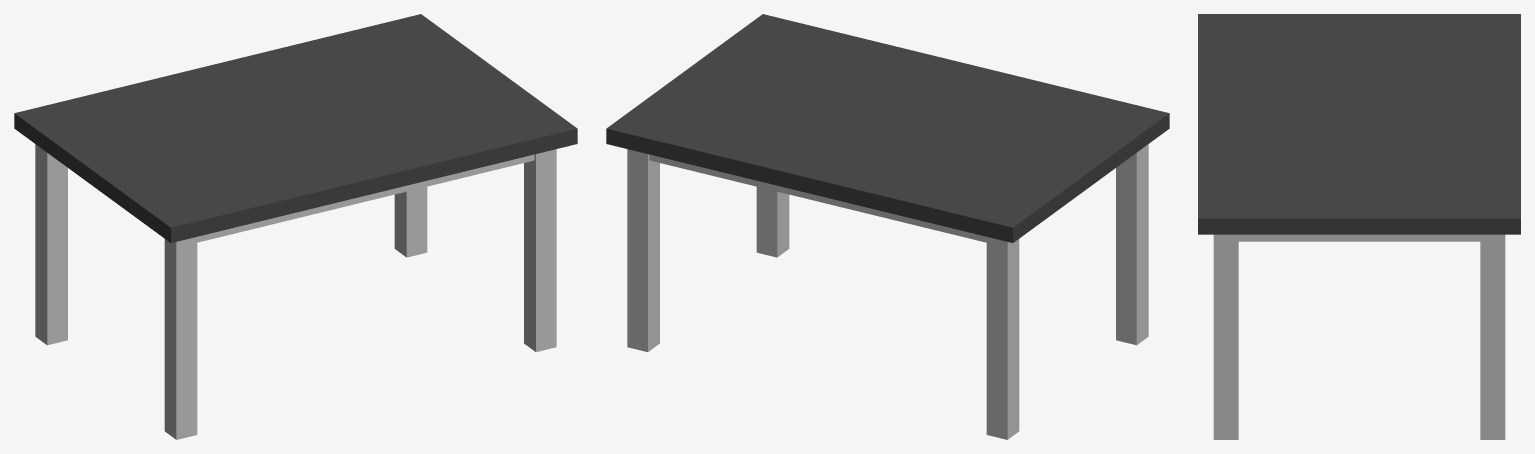
The model's file is SM_Props_Furniture_02.fbx.
3 views of the same model, side by side, from view 1: azimuth 30°, elevation 25°; view 2: azimuth 150°, elevation 25°; view 3: azimuth 270°, elevation 25° (orthographic). The views are drawn at different scales.
Visible parts, largest first — view 1: SM_Props_Furniture_02; view 2: SM_Props_Furniture_02; view 3: SM_Props_Furniture_02.
Boxes of the visible parts, bbox=[...] form: SM_Props_Furniture_02: bbox=[14, 14, 577, 439]; SM_Props_Furniture_02: bbox=[606, 14, 1169, 439]; SM_Props_Furniture_02: bbox=[1198, 14, 1520, 439].
Size of the model in its own units: 0.8652 by 0.4493 by 0.5768.
